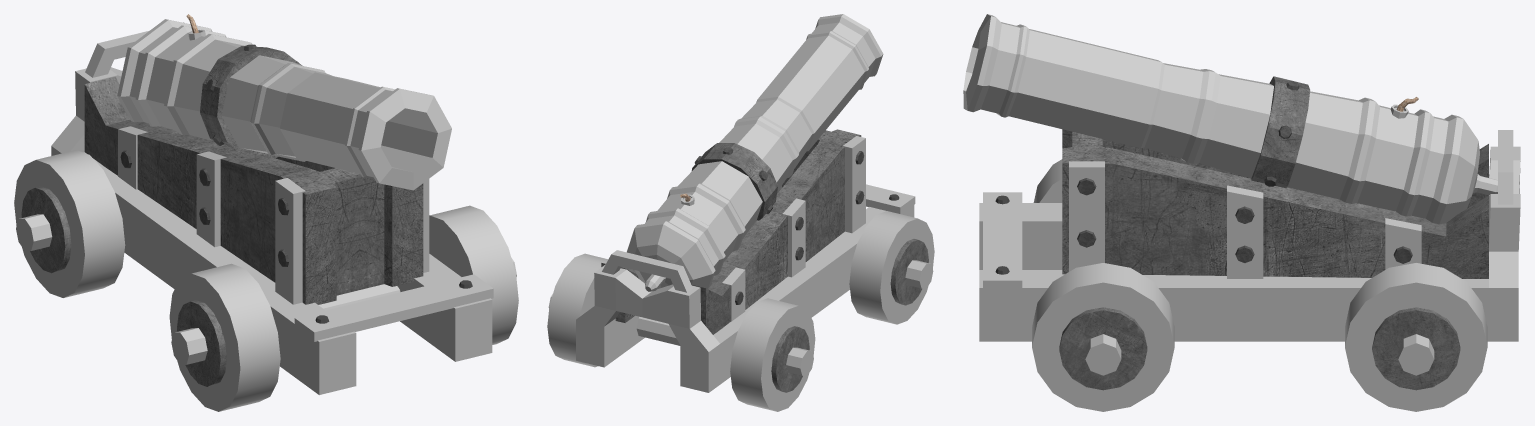
File: CanonLvl2.fbx
3 views of the same model, side by side, from view 1: azimuth 30°, elevation 25°; view 2: azimuth 150°, elevation 25°; view 3: azimuth 270°, elevation 25° (orthographic). The views are drawn at different scales.
Visible parts, largest first — view 1: Cube.005, Cylinder.006, Cube.009, Circle.029, Circle.028, Cube.011, Cube.008, Cube.010, Circle.011, Circle.010, Cylinder.010, Cylinder.009 (+1 smaller); view 2: Cylinder.006, Cube.009, Cube.005, Circle.028, Circle.029, Cube.011, Cube.010, Circle.010, Circle.011, Cylinder.009, Cube.008, Cylinder.010 (+1 smaller); view 3: Cylinder.006, Cube.005, Cube.009, Circle.029, Circle.028, Cube.011, Circle.011, Circle.010, Cube.008, Cube.010, Circle.014, Cylinder.010 (+1 smaller).
Boxes of the visible parts, x1=… form: Cube.005: x1=84, y1=76, x2=423, y2=304; Cylinder.006: x1=117, y1=19, x2=451, y2=190; Cube.009: x1=51, y1=22, x2=492, y2=394; Circle.029: x1=169, y1=205, x2=518, y2=411; Circle.028: x1=14, y1=150, x2=125, y2=297; Cube.011: x1=118, y1=126, x2=429, y2=304; Cube.008: x1=294, y1=274, x2=493, y2=341; Cube.010: x1=200, y1=46, x2=301, y2=158; Circle.011: x1=177, y1=300, x2=226, y2=386; Circle.010: x1=21, y1=186, x2=71, y2=273; Cylinder.010: x1=171, y1=258, x2=516, y2=364; Cylinder.009: x1=16, y1=214, x2=52, y2=251; Cylinder.006: x1=627, y1=14, x2=883, y2=291; Cube.009: x1=576, y1=205, x2=914, y2=392; Cube.005: x1=601, y1=129, x2=861, y2=334; Circle.028: x1=547, y1=253, x2=815, y2=411; Circle.029: x1=849, y1=211, x2=934, y2=324; Cube.011: x1=722, y1=136, x2=865, y2=321; Cube.010: x1=691, y1=143, x2=777, y2=220; Circle.010: x1=771, y1=326, x2=809, y2=392; Circle.011: x1=890, y1=239, x2=928, y2=305; Cylinder.009: x1=548, y1=294, x2=813, y2=375; Cube.008: x1=866, y1=184, x2=915, y2=214; Cylinder.010: x1=905, y1=260, x2=933, y2=288; Cylinder.006: x1=963, y1=14, x2=1497, y2=224; Cube.005: x1=1062, y1=129, x2=1488, y2=278; Cube.009: x1=979, y1=130, x2=1520, y2=341; Circle.029: x1=1032, y1=159, x2=1174, y2=411; Circle.028: x1=1345, y1=263, x2=1487, y2=411; Cube.011: x1=1069, y1=161, x2=1421, y2=278; Circle.011: x1=1059, y1=307, x2=1147, y2=390; Circle.010: x1=1372, y1=307, x2=1460, y2=390; Cube.008: x1=983, y1=192, x2=1022, y2=290; Cube.010: x1=1246, y1=76, x2=1310, y2=188; Circle.014: x1=1077, y1=178, x2=1412, y2=263; Cylinder.010: x1=1085, y1=334, x2=1121, y2=375.
Size of the model in its own units: 106 by 100 by 155.
